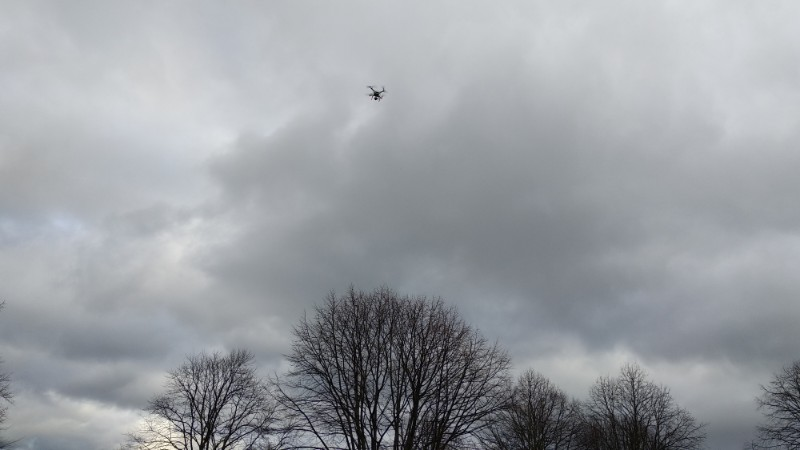drone: (367, 86, 386, 102)
